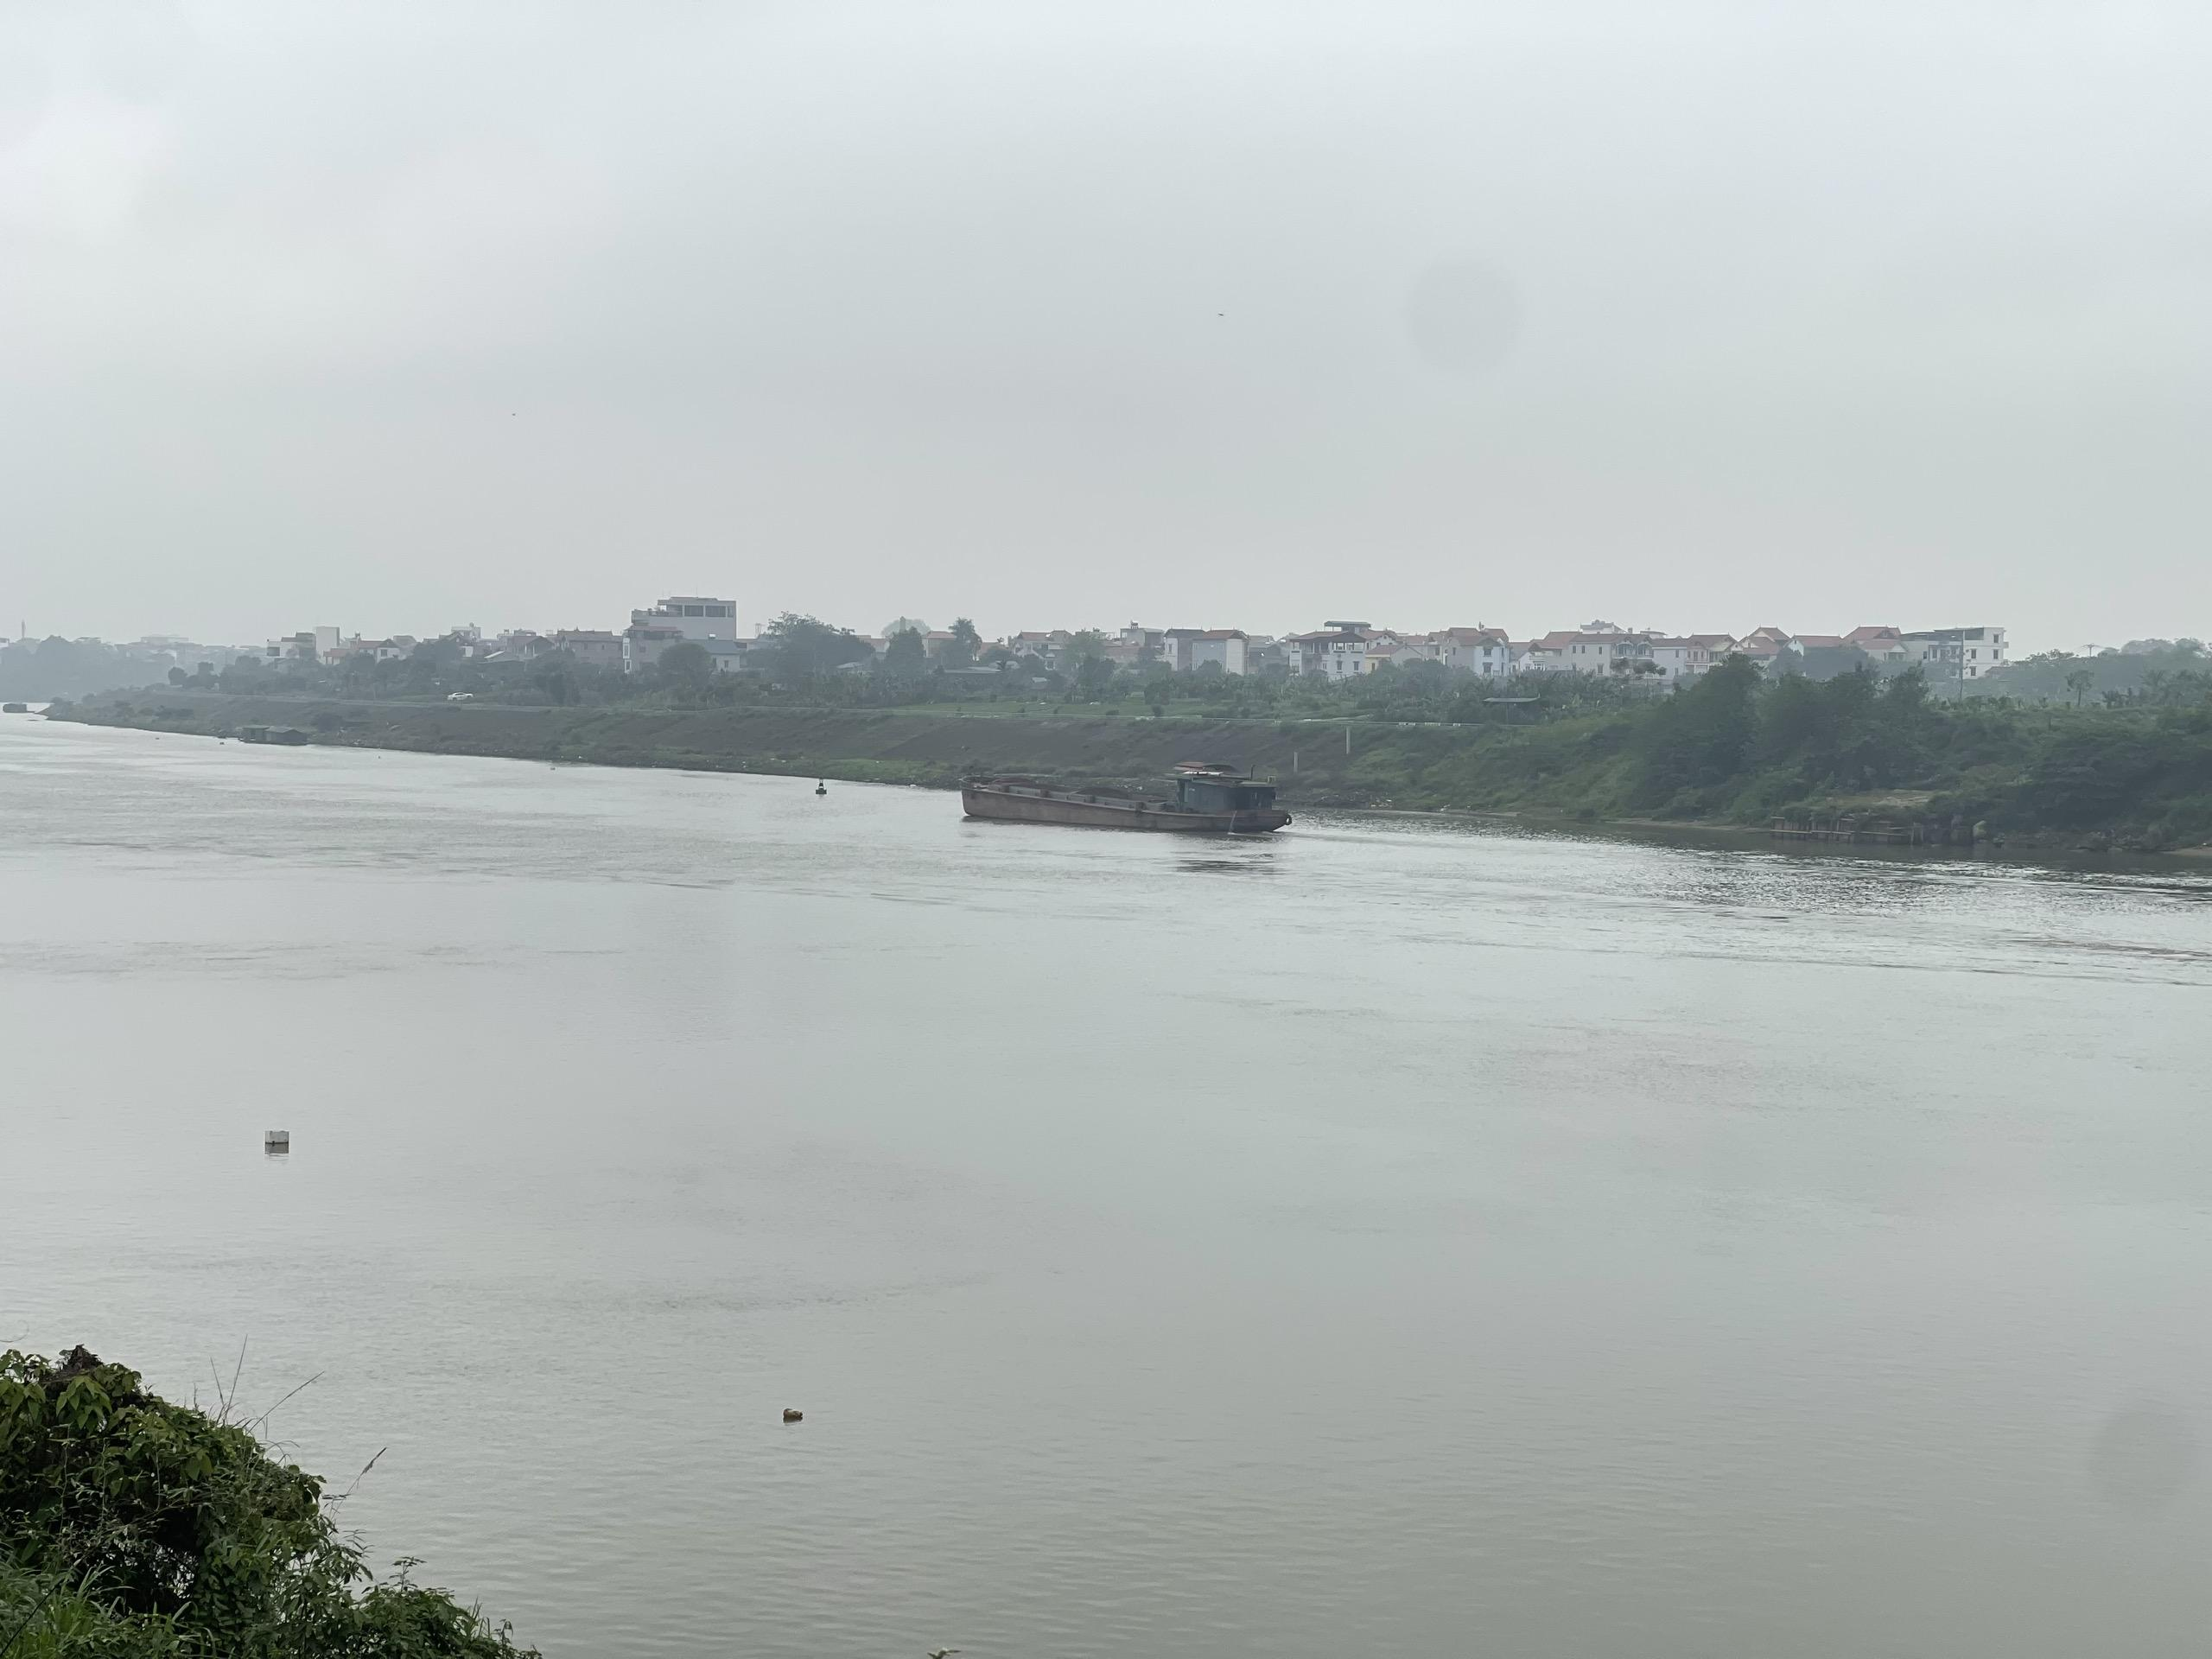Ship: (944, 756, 1301, 842)
